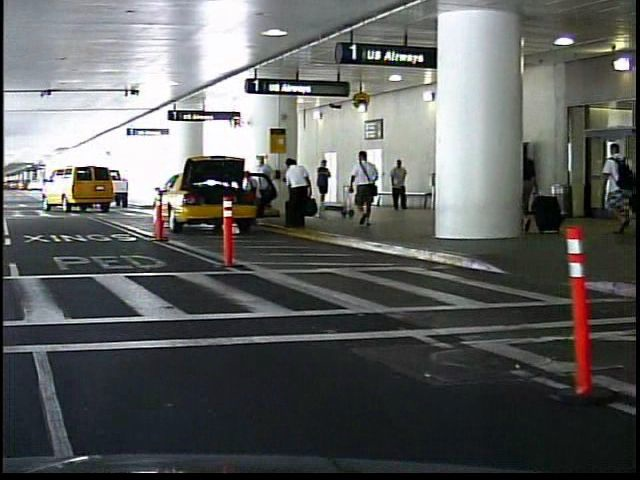person: (484, 137, 524, 236), (594, 143, 636, 237), (342, 147, 379, 231), (386, 153, 407, 216)
